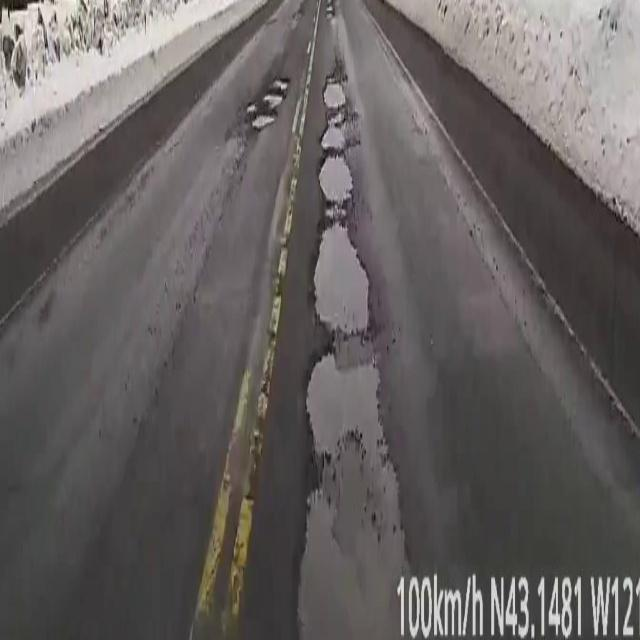pothole: (292, 74, 411, 640), (248, 78, 288, 130)
